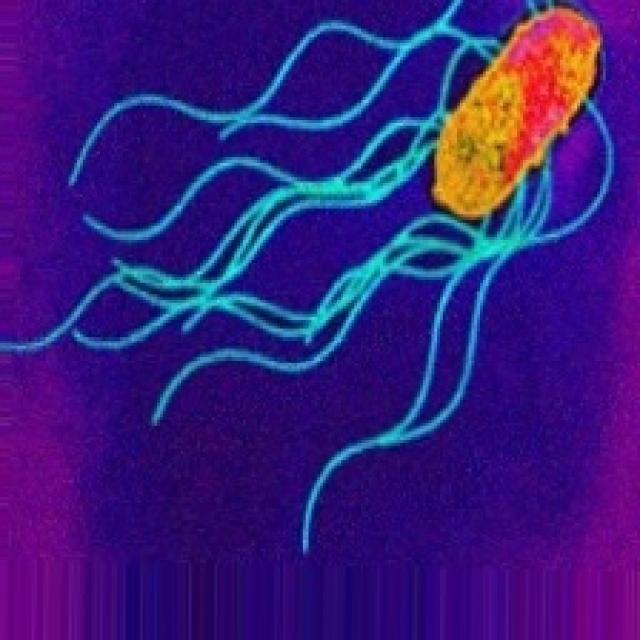Rod_bacteria: (0, 0, 617, 554), (426, 0, 603, 220)
